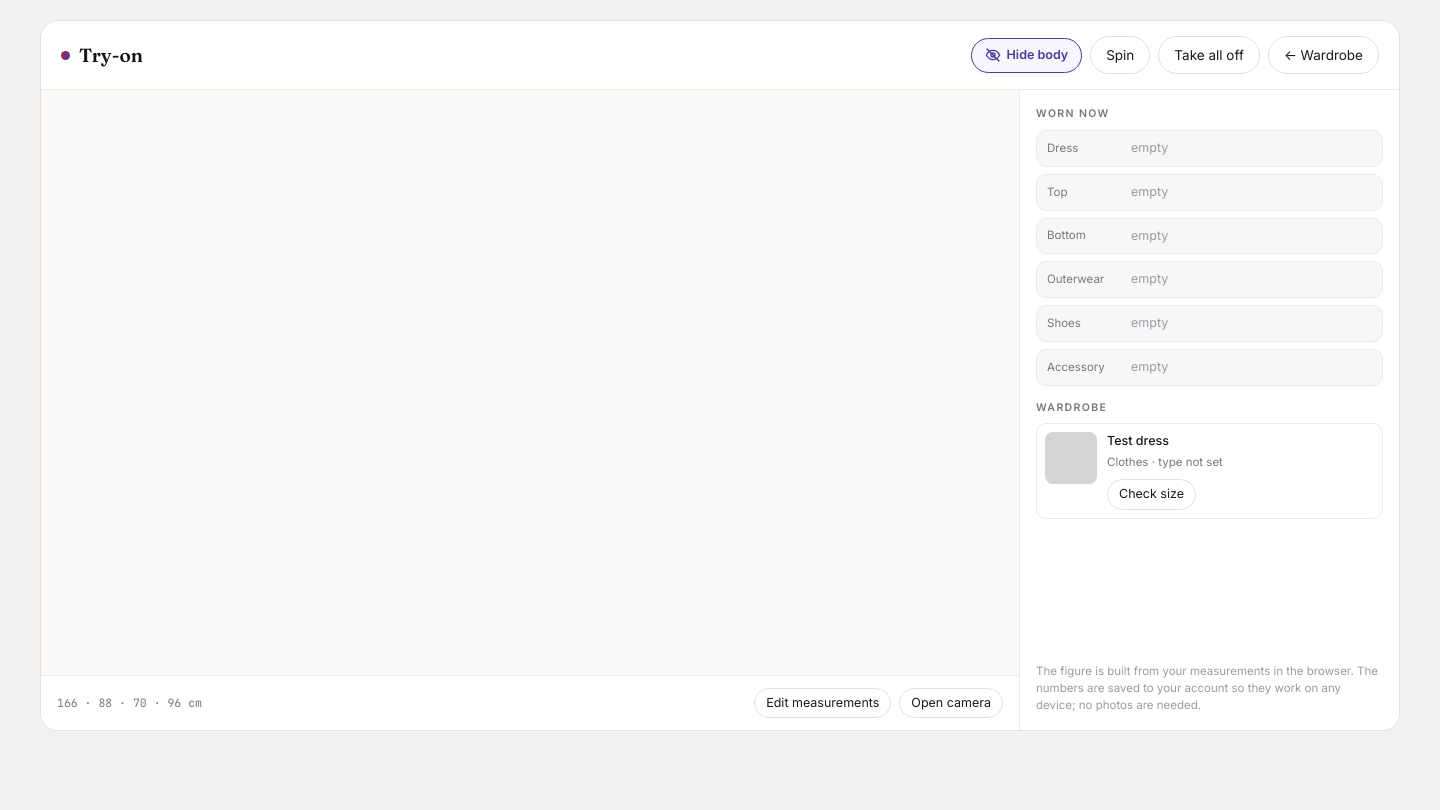
Test case: an old product without a type is not worn as a tee: "type not set" and a size check only
Expected: the text "Clothes · type not set" is shown, [1107, 455, 1223, 469]
Click the button "Check size": click(1152, 495) [1107, 479, 1196, 510]
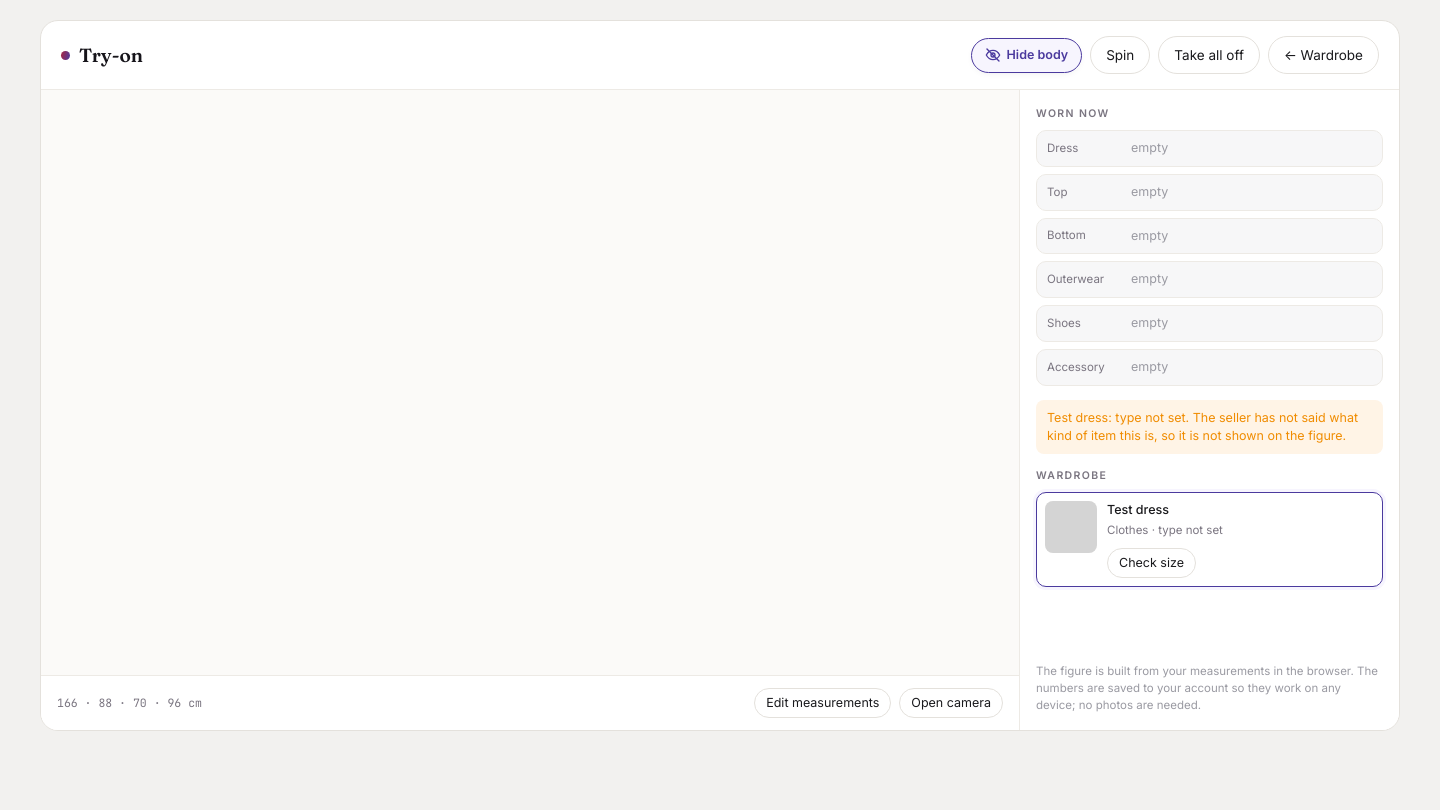
Now the text "Test dress: type not set." is shown, box [1047, 410, 1358, 443]
